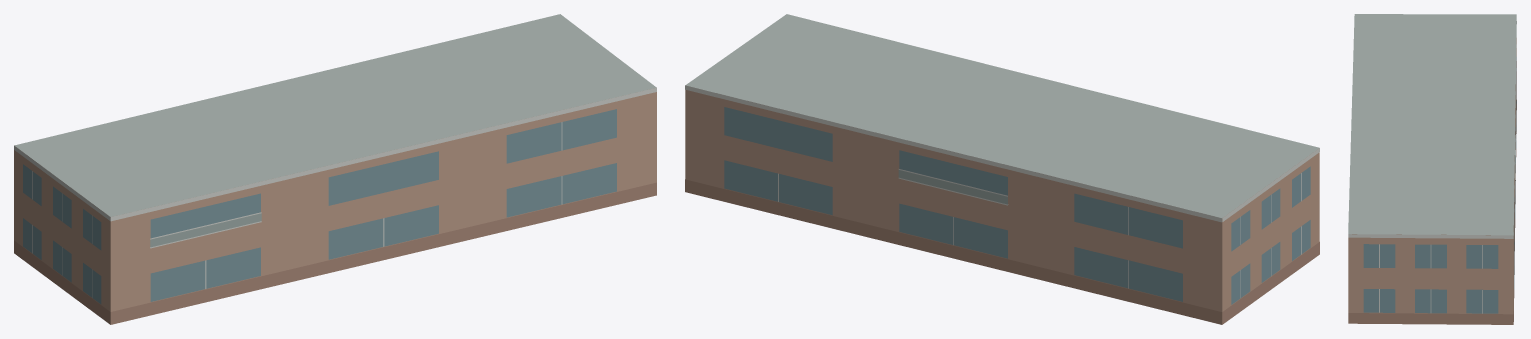
File: survey-upis-32625855.glb
3 renders of one model, left to right at view 1: azimuth 30°, elevation 25°; view 2: azimuth 150°, elevation 25°; view 3: azimuth 270°, elevation 25°, orthographic. The views are drawn at different scales.
Visible parts, largest first — view 1: survey-upis-32625855.tmp; view 2: survey-upis-32625855.tmp; view 3: survey-upis-32625855.tmp.
Part boxes in pixels (x1,y1,x2,y2): survey-upis-32625855.tmp: (14, 14, 656, 324); survey-upis-32625855.tmp: (685, 14, 1319, 324); survey-upis-32625855.tmp: (1348, 14, 1516, 324).
Bounding box in the file's own units: 32.31 × 6.1 × 10.42.
